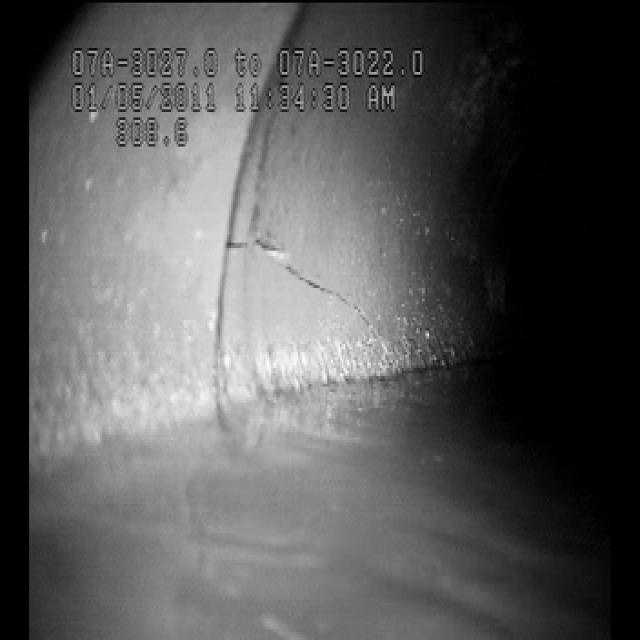Crack: (238, 199, 394, 349)
